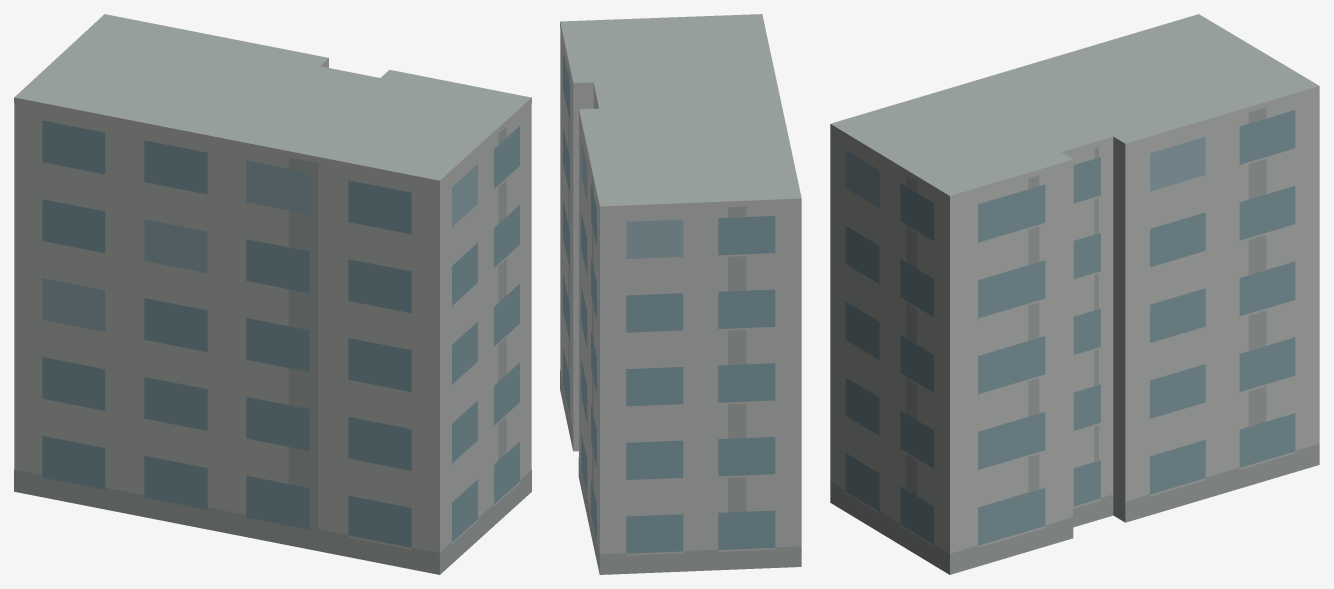
Rendered from survey-upis-32869647.glb.
The picture shows the model from 3 angles, left to right: view 1: azimuth 30°, elevation 25°; view 2: azimuth 150°, elevation 25°; view 3: azimuth 270°, elevation 25°; orthographic projection. The views are drawn at different scales.
Visible parts, largest first — view 1: survey-upis-32869647.tmp; view 2: survey-upis-32869647.tmp; view 3: survey-upis-32869647.tmp.
Boxes of the visible parts, x1,y1,x2,y2 form: survey-upis-32869647.tmp: [14, 14, 531, 574]; survey-upis-32869647.tmp: [560, 14, 801, 574]; survey-upis-32869647.tmp: [830, 14, 1319, 574].
Bounding box in the file's own units: 16.39 × 15.9 × 18.62.
